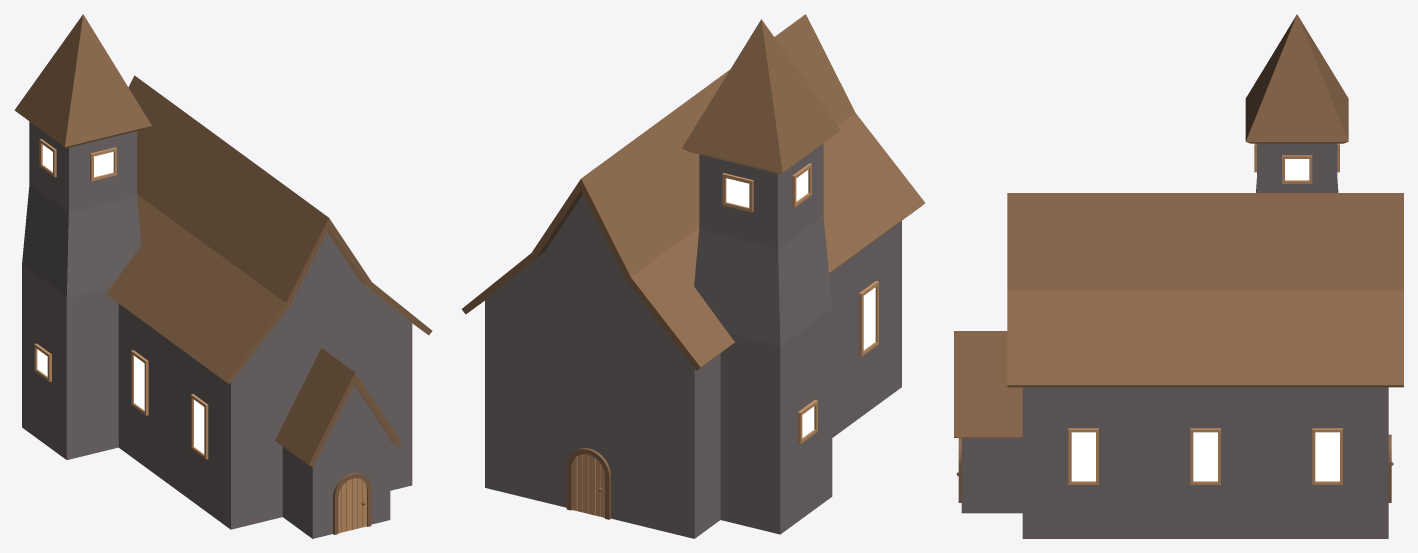
File: SM_Church_01.fbx
The picture shows the model from 3 angles, left to right: view 1: azimuth 30°, elevation 25°; view 2: azimuth 150°, elevation 25°; view 3: azimuth 270°, elevation 25°; orthographic projection. The views are drawn at different scales.
Visible parts, largest first — view 1: Cube.015, DoorCurved_01.006, WindowTall_01.016, WindowTall_01.014, WindowSmall_01.047, WindowSmall_01.051, WindowSmall_01.048; view 2: Cube.015, DoorCurved_01.007, WindowTall_01.014, WindowSmall_01.049, WindowSmall_01.051, WindowSmall_01.048; view 3: Cube.015, WindowTall_01.017, WindowTall_01.018, WindowTall_01.019, WindowSmall_01.050.
Part boxes in pixels (box(x1,y1,x2,y2)): Cube.015: box(14, 14, 432, 538); DoorCurved_01.006: box(333, 473, 371, 534); WindowTall_01.016: box(131, 350, 148, 415); WindowTall_01.014: box(191, 394, 208, 459); WindowSmall_01.047: box(90, 147, 116, 181); WindowSmall_01.051: box(34, 343, 51, 381); WindowSmall_01.048: box(39, 139, 56, 177); Cube.015: box(461, 14, 924, 538); DoorCurved_01.007: box(566, 448, 610, 519); WindowTall_01.014: box(858, 281, 878, 356); WindowSmall_01.049: box(722, 173, 753, 212); WindowSmall_01.051: box(797, 399, 817, 444); WindowSmall_01.048: box(792, 163, 811, 207); Cube.015: box(954, 14, 1403, 538); WindowTall_01.017: box(1190, 428, 1220, 484); WindowTall_01.018: box(1312, 428, 1342, 484); WindowTall_01.019: box(1068, 428, 1098, 484); WindowSmall_01.050: box(1282, 155, 1312, 183).
Bounding box in the file's own units: 968 × 1550 × 1475.
